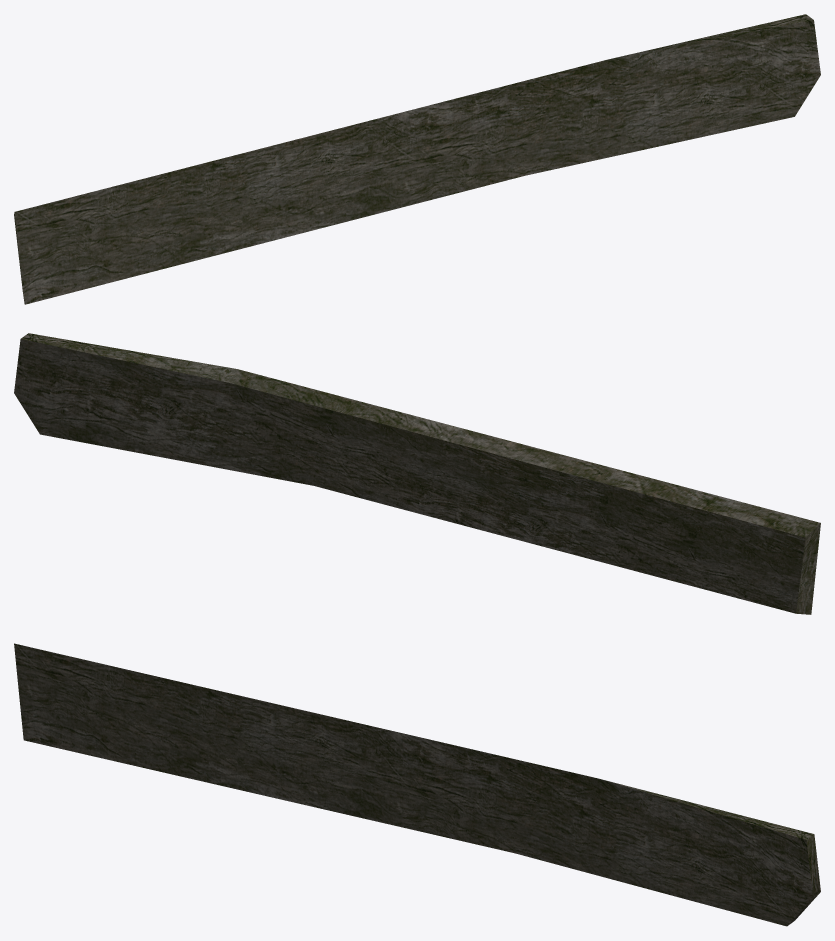
The model's file is TI_Plank_05.fbx.
3 views of the same model, one above another, from view 1: azimuth 30°, elevation 25°; view 2: azimuth 150°, elevation 25°; view 3: azimuth 330°, elevation 25° (orthographic).
Parts seen in each view (by area): view 1: TI_Plank_05; view 2: TI_Plank_05; view 3: TI_Plank_05.
Boxes of the visible parts, bbox=[...] form: TI_Plank_05: bbox=[14, 14, 820, 304]; TI_Plank_05: bbox=[14, 333, 820, 614]; TI_Plank_05: bbox=[14, 643, 820, 926].
Bounding box in the file's own units: 3.86 × 0.4793 × 0.0908.
